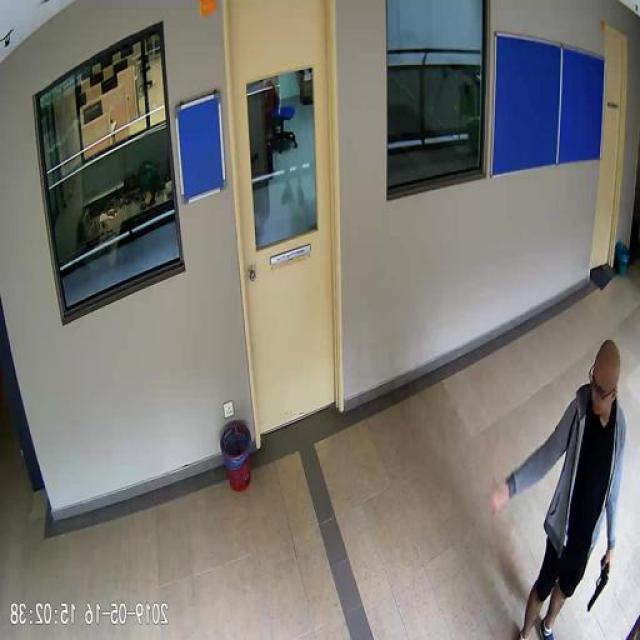Gun: (588, 551, 612, 611)
